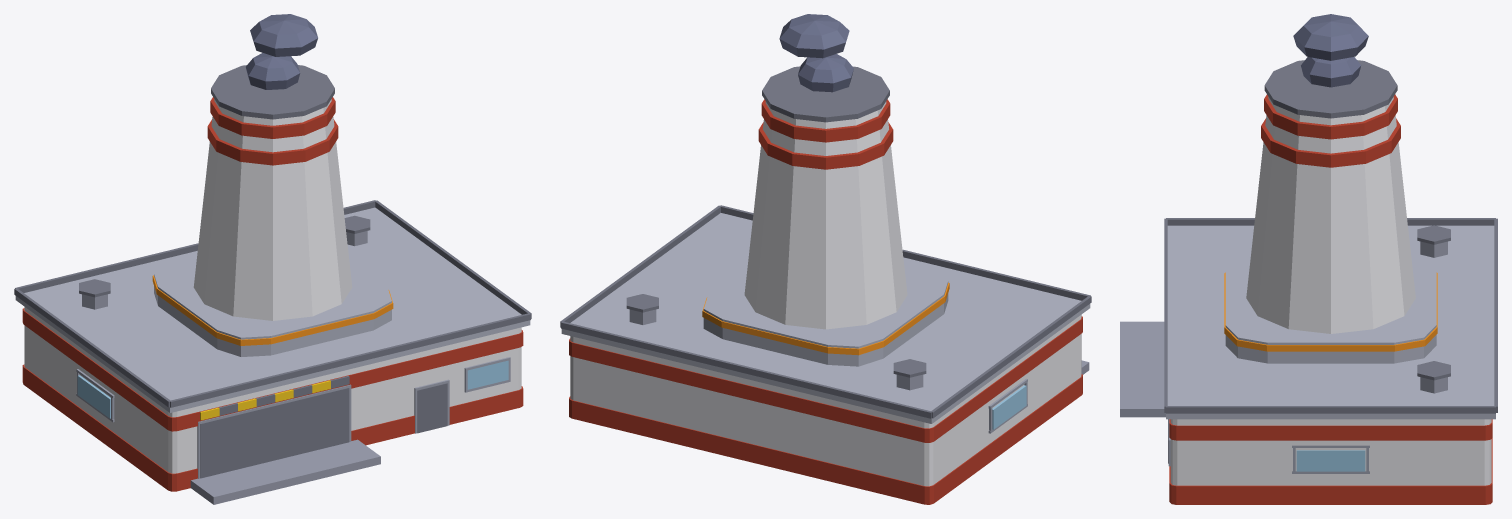
File: incinerator-2x2-t2.glb
3 views of the same model, side by side, from view 1: azimuth 30°, elevation 25°; view 2: azimuth 150°, elevation 25°; view 3: azimuth 270°, elevation 25° (orthographic). The views are drawn at different scales.
Visible parts, largest first — view 1: incinerator-2x2-t2; view 2: incinerator-2x2-t2; view 3: incinerator-2x2-t2.
Part boxes in pixels (bbox=[...]): incinerator-2x2-t2: bbox=[14, 14, 531, 504]; incinerator-2x2-t2: bbox=[560, 14, 1091, 504]; incinerator-2x2-t2: bbox=[1120, 14, 1497, 504].
Bounding box in the file's own units: 1.96 × 1.91 × 1.65.
1 material, 1 textured.
